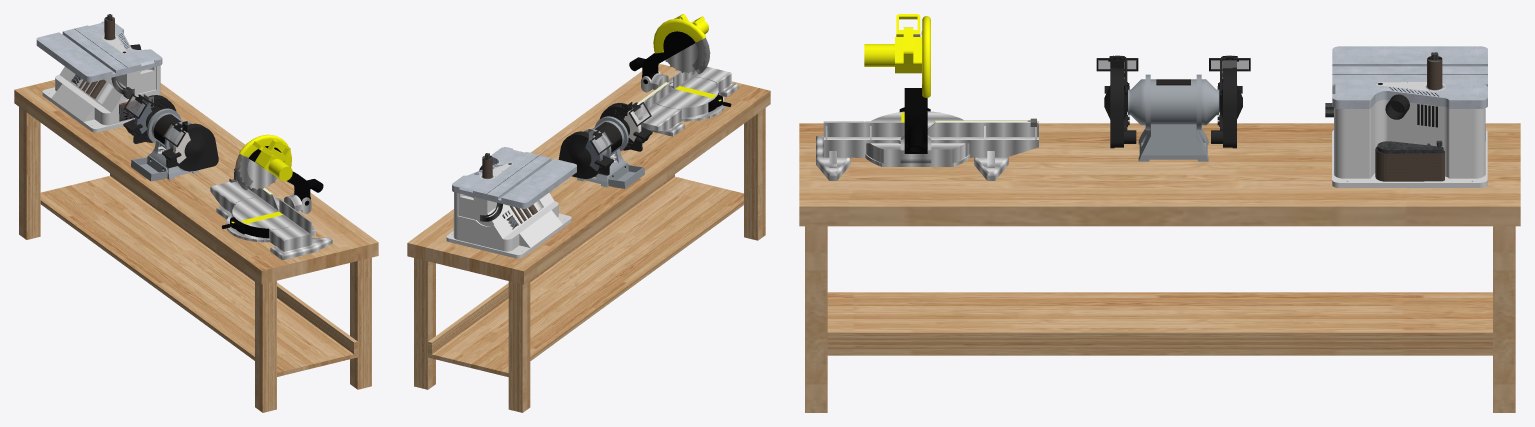
File: workbench.glb
3 renders of one model, left to right at view 1: azimuth 30°, elevation 25°; view 2: azimuth 150°, elevation 25°; view 3: azimuth 270°, elevation 25°, orthographic. The views are drawn at different scales.
Size of the model in its own units: 0.6502 by 1.26 by 2.38.
Materials: 38 (20 with a texture image).
